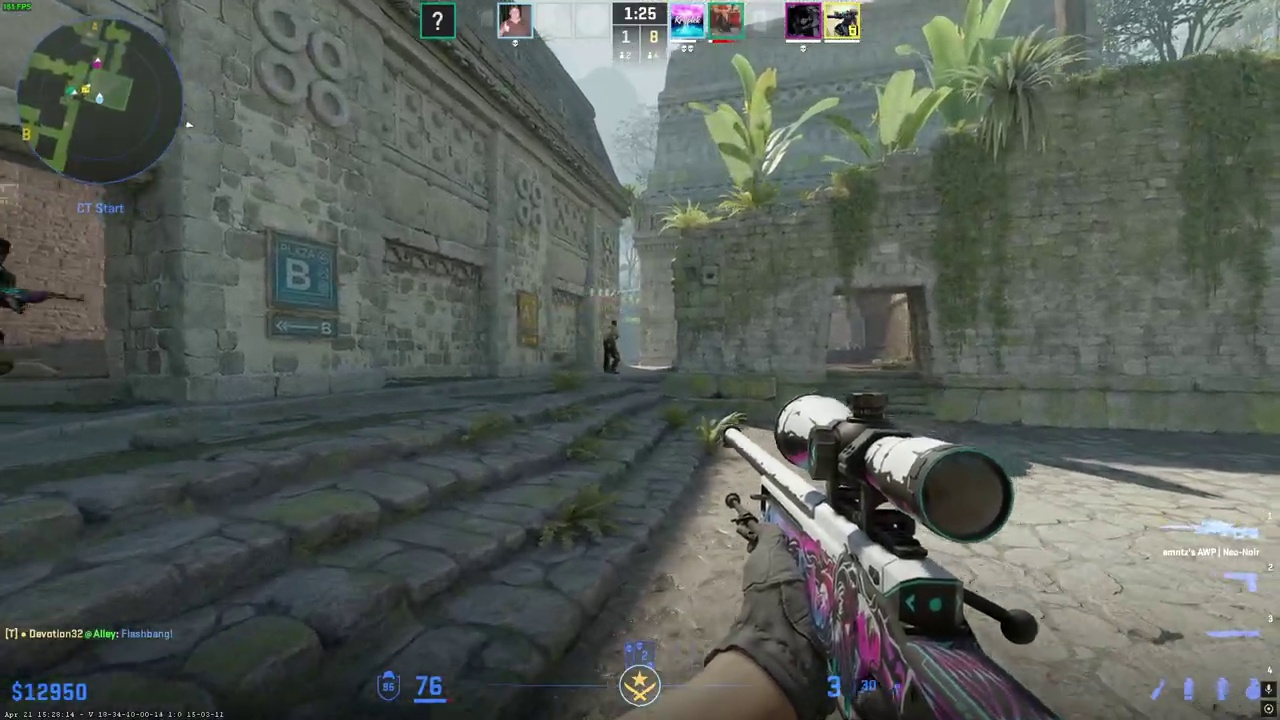Terrorist: (603, 320, 621, 374)
